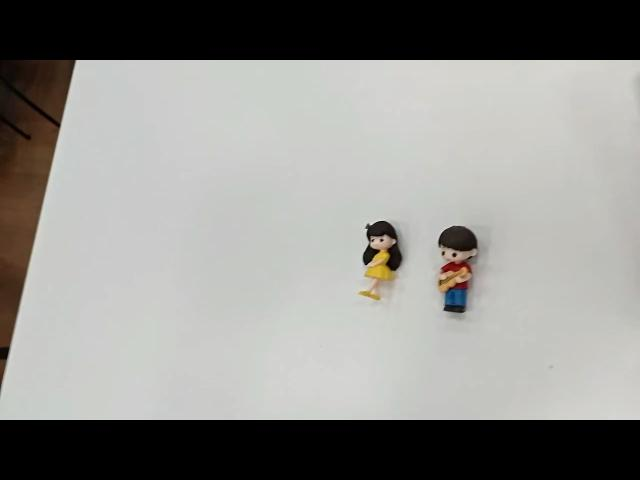man: (434, 218, 480, 316)
woman: (355, 215, 409, 305)
